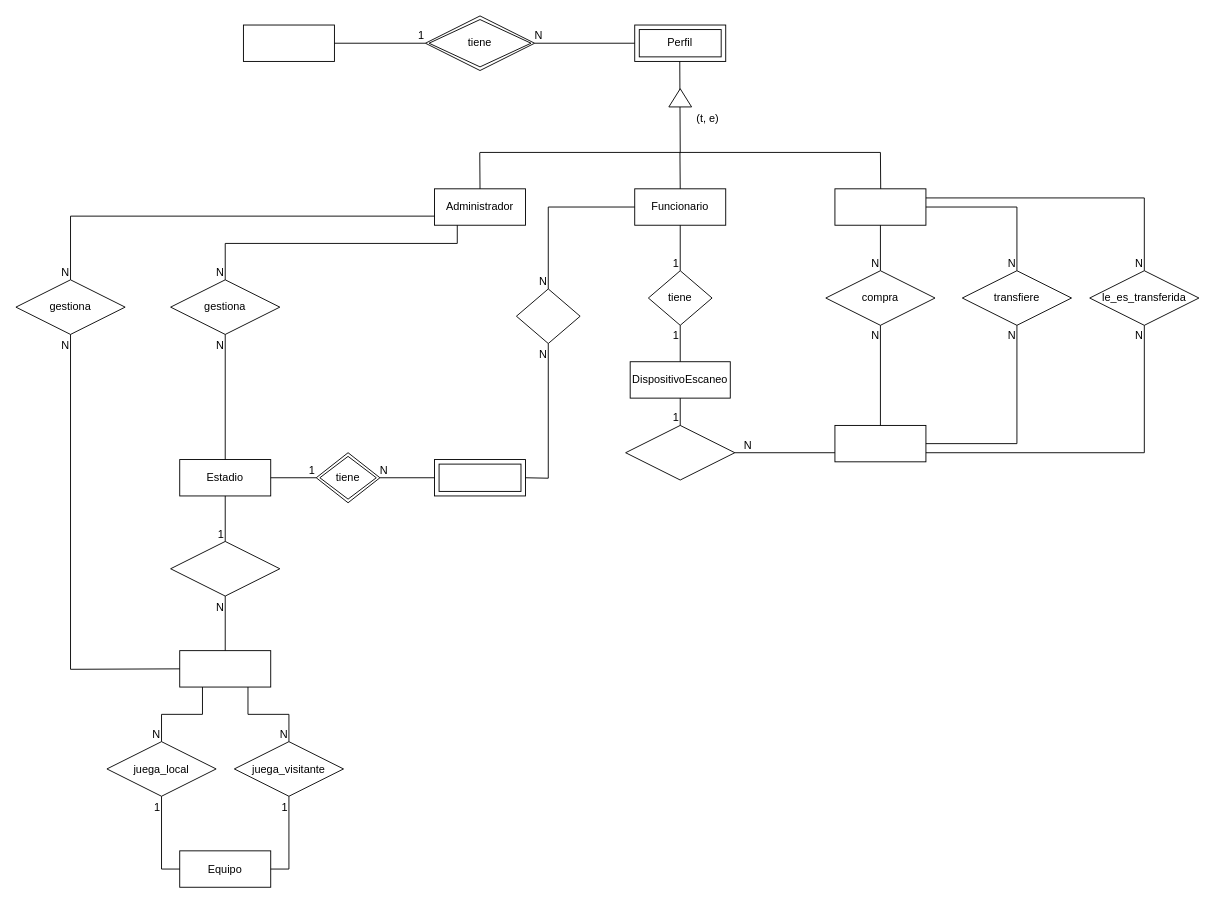
This 1215x904 diagram has some shape labels left out. The shapes that lost their labels are listed below. From the top down, each one's box as (x1, y1, x2, y2) in pixels, then its label:
(243, 24, 334, 61): Usuario
(834, 188, 926, 225): General
(516, 288, 580, 344): asignado
(625, 425, 735, 480): escanea
(834, 425, 926, 462): Entrada
(434, 459, 526, 496): Sector
(170, 541, 280, 596): ocurre
(179, 650, 271, 687): Evento
